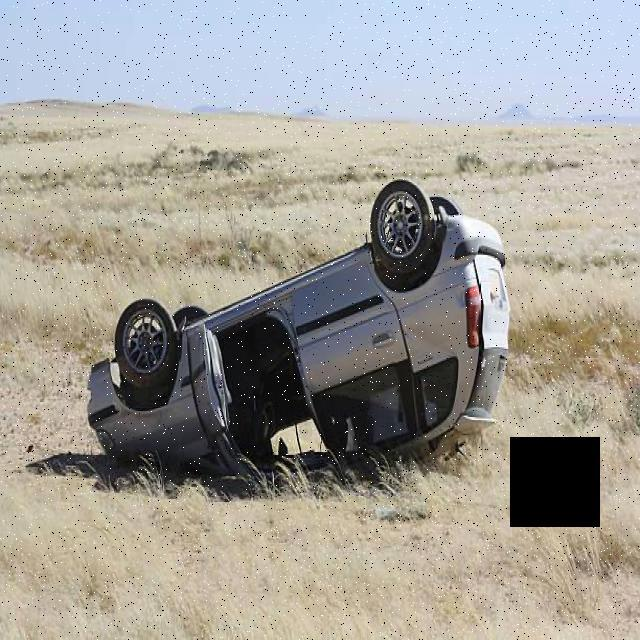severe: (77, 176, 515, 494)
